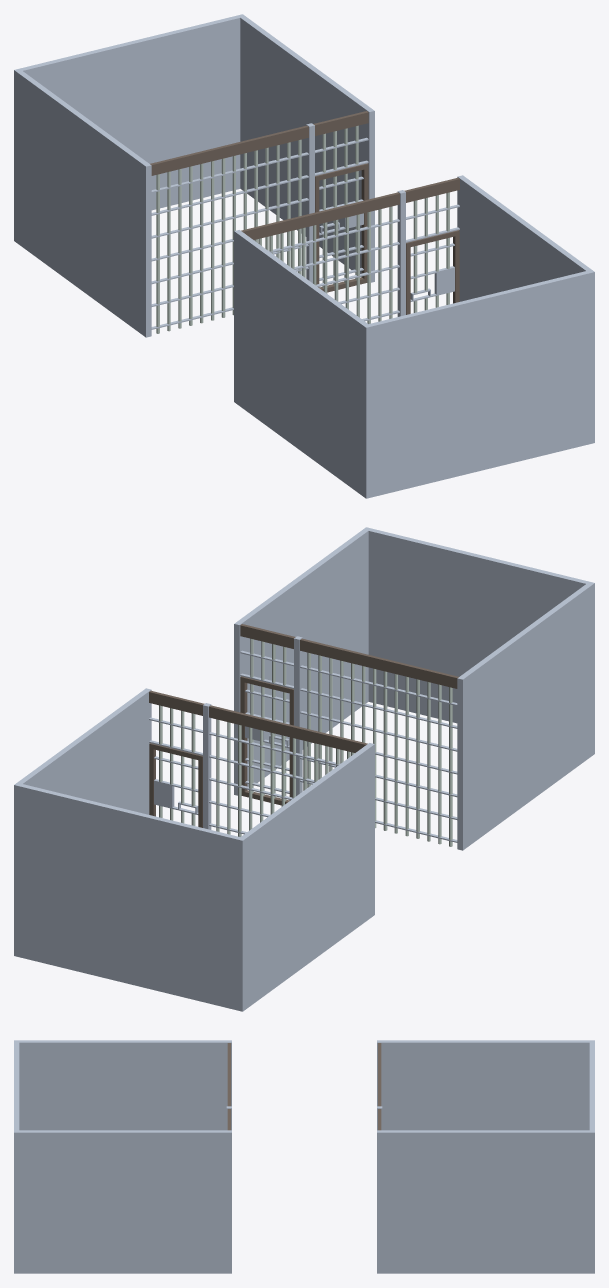
The model's file is map.fbx.
3 views of the same model, one above another, from view 1: azimuth 30°, elevation 25°; view 2: azimuth 150°, elevation 25°; view 3: azimuth 270°, elevation 25° (orthographic). The views are drawn at different scales.
Visible parts, largest first — view 1: Cube.069, Cube.083, Cube.085, Cube.071, Cube.088, Cube.087, Cube.073, Cube.072, Cylinder.076, Cube.090, Cube.089; view 2: Cube.083, Cube.069, Cube.071, Cube.085, Cube.073, Cube.072, Cube.088, Cube.087, Cylinder.054, Cube.076, Cube.074; view 3: Cube.069, Cube.083, Cube.071, Cube.085.
Part boxes in pixels (x1,y1,x2,y2): Cube.069: (234, 175, 594, 498); Cube.083: (14, 14, 374, 337); Cube.085: (150, 111, 368, 175); Cube.071: (241, 177, 459, 239); Cube.088: (315, 163, 368, 292); Cube.087: (306, 123, 314, 283); Cube.073: (406, 230, 459, 314); Cube.072: (397, 190, 405, 316); Cylinder.076: (221, 158, 225, 317); Cube.090: (151, 160, 368, 215); Cube.089: (151, 137, 368, 192); Cube.083: (14, 688, 374, 1011); Cube.069: (234, 527, 594, 850); Cube.071: (240, 624, 458, 688); Cube.085: (149, 690, 367, 752); Cube.073: (240, 676, 293, 805); Cube.072: (294, 636, 302, 796); Cube.088: (149, 743, 202, 827); Cube.087: (203, 703, 211, 829); Cylinder.054: (383, 671, 387, 830); Cube.076: (240, 673, 457, 728); Cube.074: (240, 650, 457, 705); Cube.069: (14, 1040, 231, 1273); Cube.083: (377, 1040, 594, 1273); Cube.071: (227, 1043, 230, 1130); Cube.085: (378, 1043, 381, 1130).
Size of the model in its own units: 420 by 300 by 1120.
